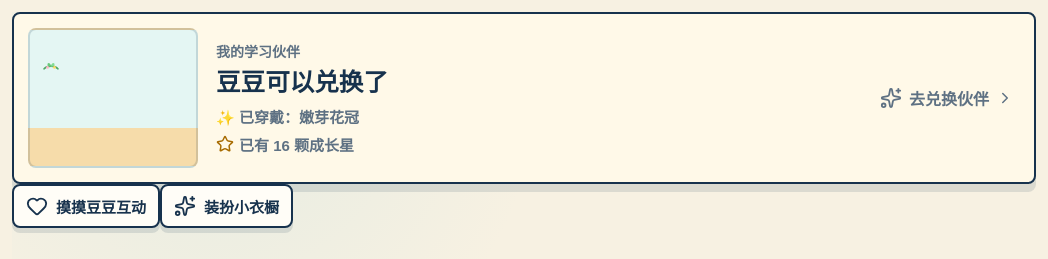
Scenario: Professional Edutainment Polish (SFX, Storybooks, Wardrobe, Combo & Chest) › renders all 7 all-star companions and toggles accessories mutually exclusively per slot
This screenshot has width=1048, height=259.
Later steps or results of the test are not shown.
Step 1. Click the button with test id "pet-touch-btn" → (86, 206), box [12, 184, 160, 228]
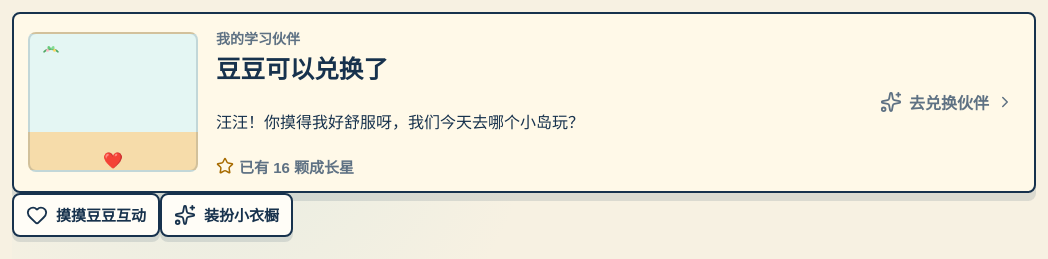
Check: the text "汪汪！你摸得我好舒服呀，我们今天去哪个小岛玩？" is shown, box [216, 114, 584, 131]
